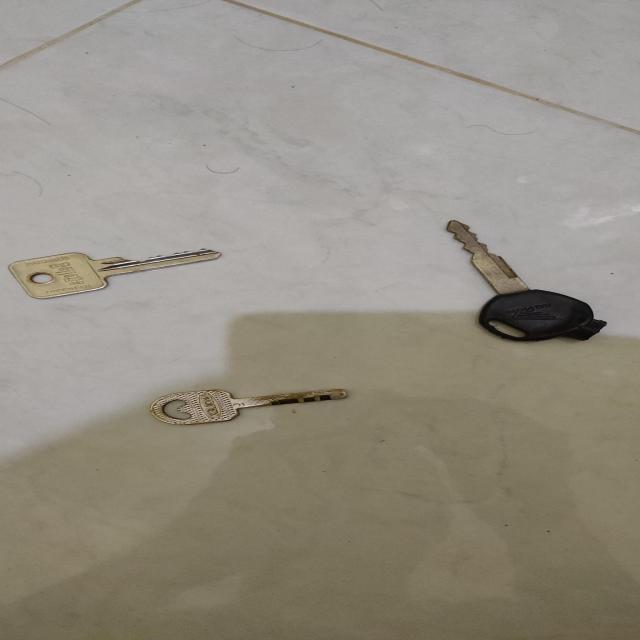kunci_kos: (3, 242, 240, 309)
kunci_motor: (434, 214, 616, 346)
kunci_pagar: (157, 378, 357, 429)
